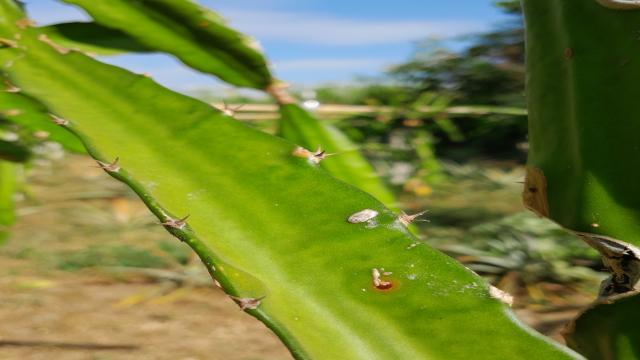stemcanker: (518, 163, 554, 218), (365, 266, 403, 297)
